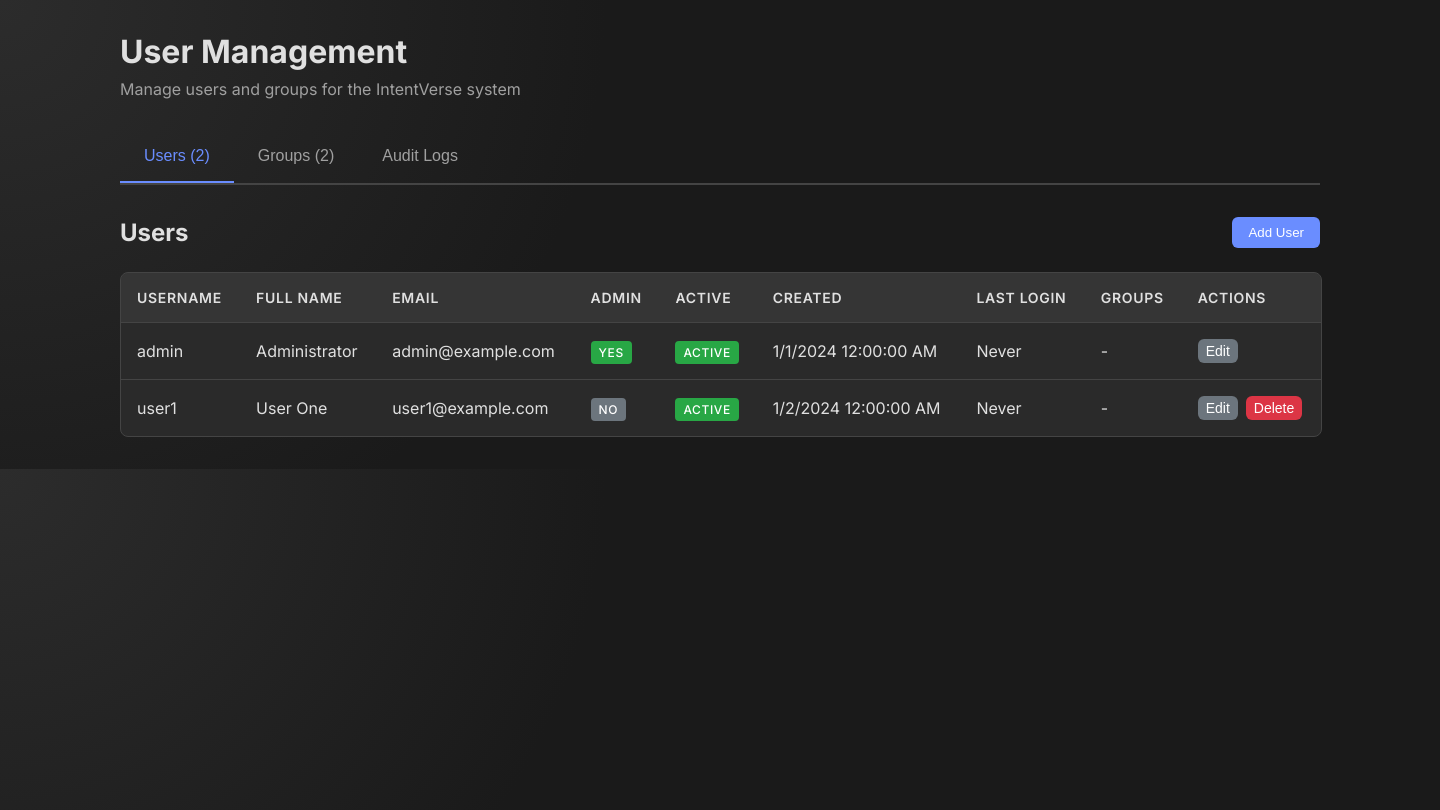
UsersPage › Users Management › opens create user modal when add button is clicked
What coordinates should you click on to do the following:
click the button "Add User"
I would click on:
 (1276, 232)
Its box is [1232, 217, 1320, 248].
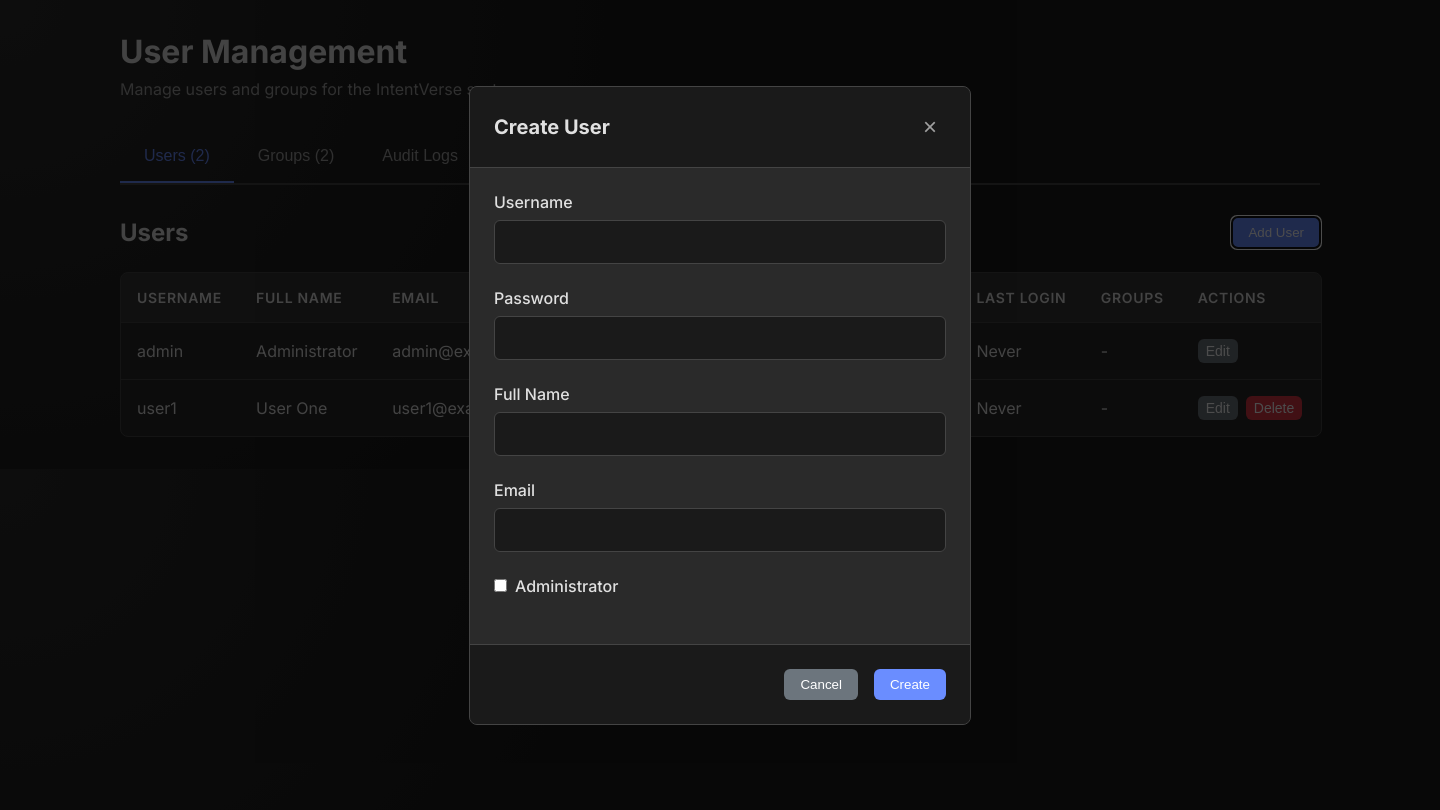
Expected: the heading "Create User" is shown, [494, 114, 610, 138]
Expected: the field labelled "Username" is shown, [494, 220, 946, 264]
Expected: the field labelled "Email" is shown, [494, 508, 946, 552]
